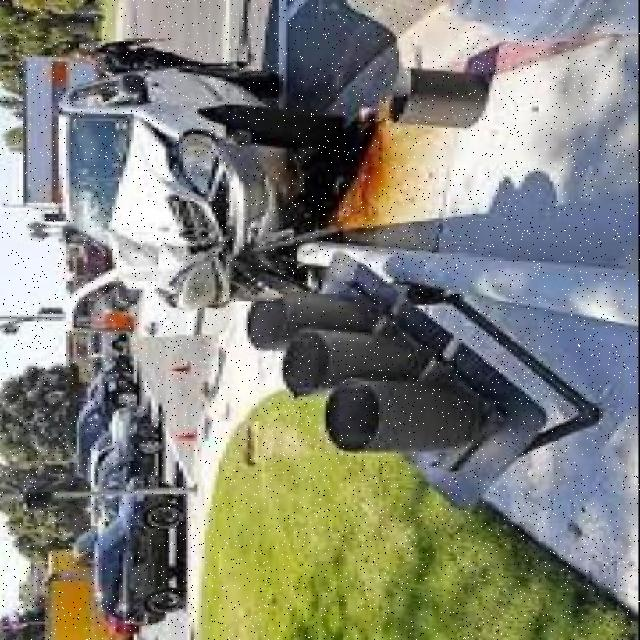damage: (108, 119, 332, 311)
